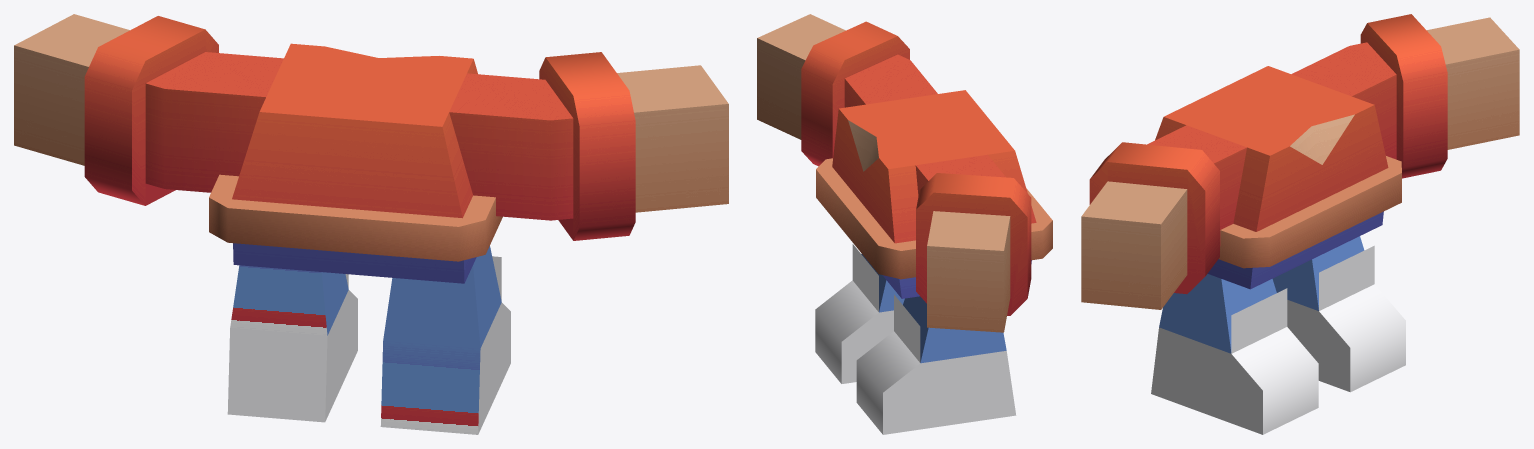
Rendered from body-mesh_lev2.glb.
3 renders of one model, left to right at view 1: azimuth 30°, elevation 25°; view 2: azimuth 150°, elevation 25°; view 3: azimuth 270°, elevation 25°, orthographic. The views are drawn at different scales.
Parts seen in each view (by area): view 1: body-mesh_lev2; view 2: body-mesh_lev2; view 3: body-mesh_lev2.
Boxes of the visible parts, x1,y1,x2,y2 form: body-mesh_lev2: (14,14,728,434); body-mesh_lev2: (757,14,1052,434); body-mesh_lev2: (1081,14,1519,434).
Size of the model in its own units: 3.57 by 2.29 by 3.2.
1 material, 1 textured.
